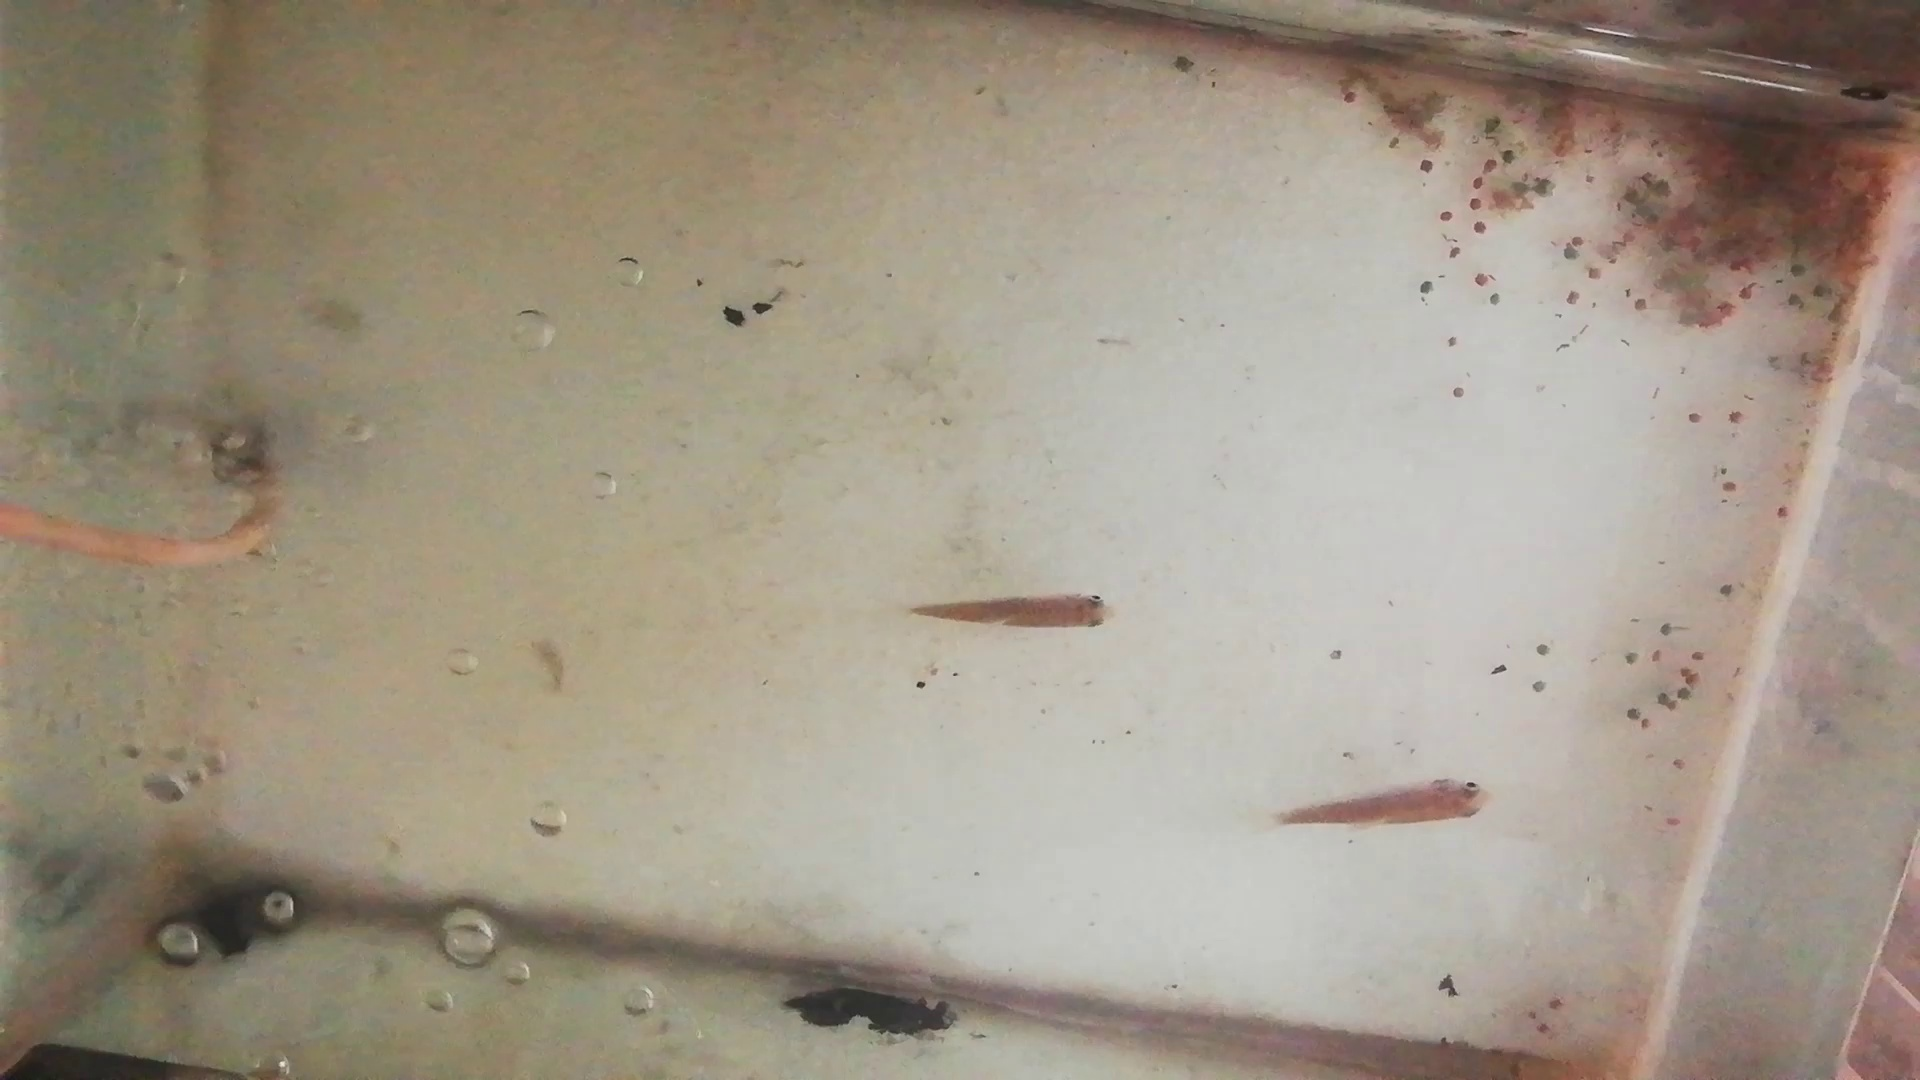fish: (907, 583, 1116, 636), (1274, 779, 1491, 822)
